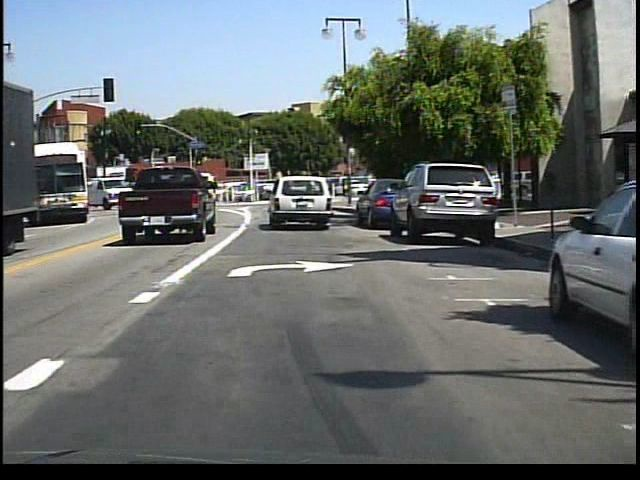person: (339, 177, 351, 204)
